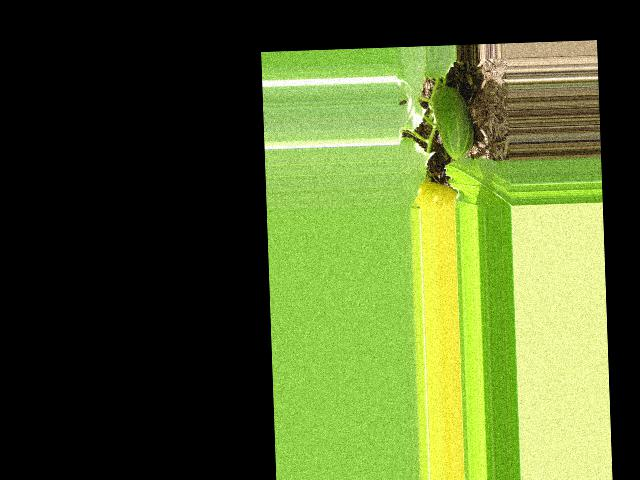cucumber: (432, 84, 475, 160)
